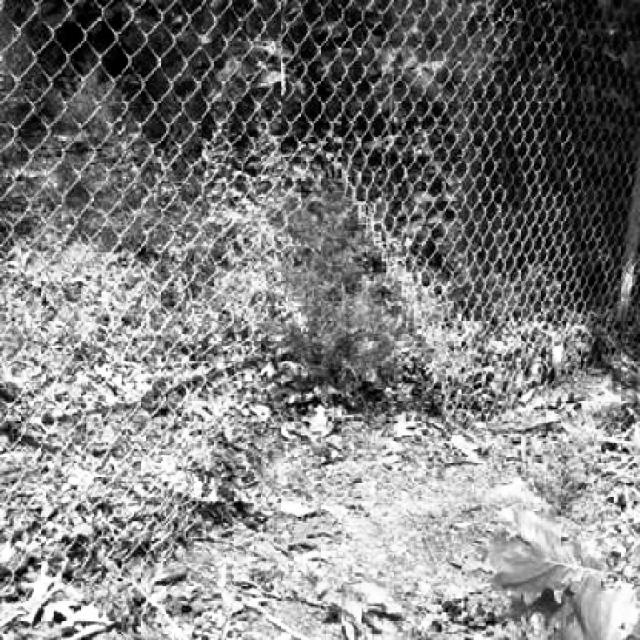anomaly-fence: (148, 128, 487, 572)
